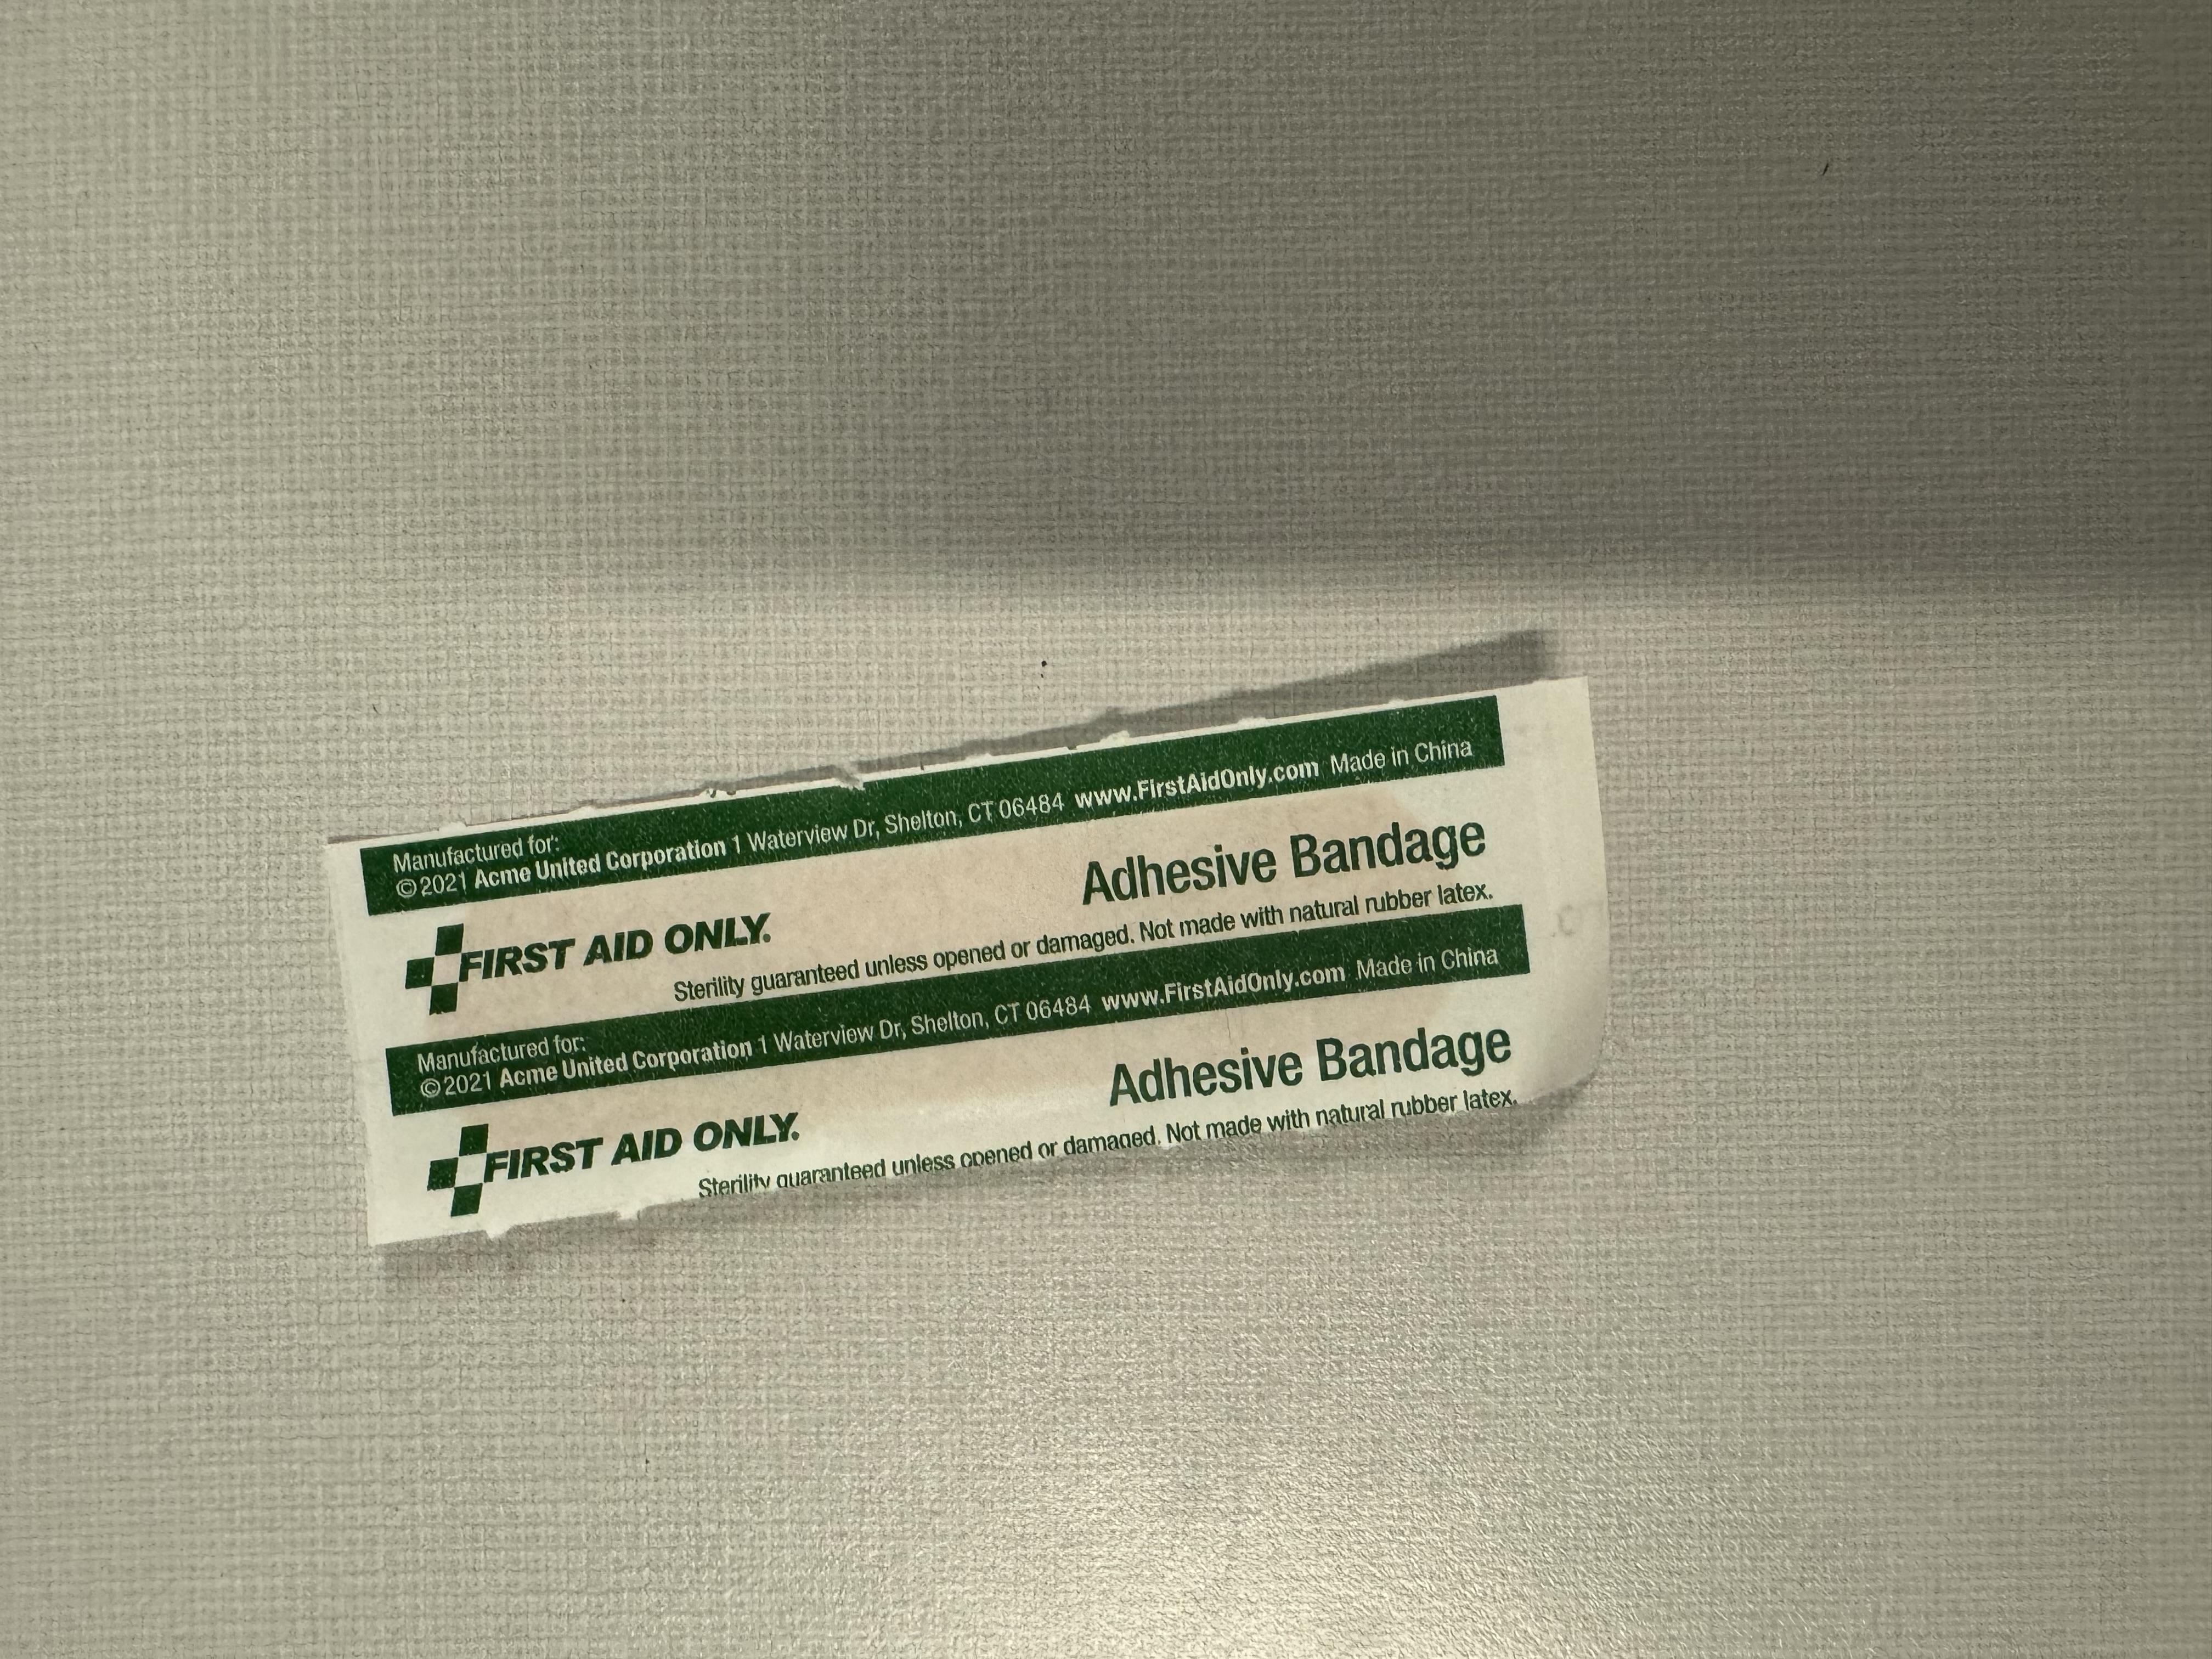bandage: (376, 415, 1965, 1004)
